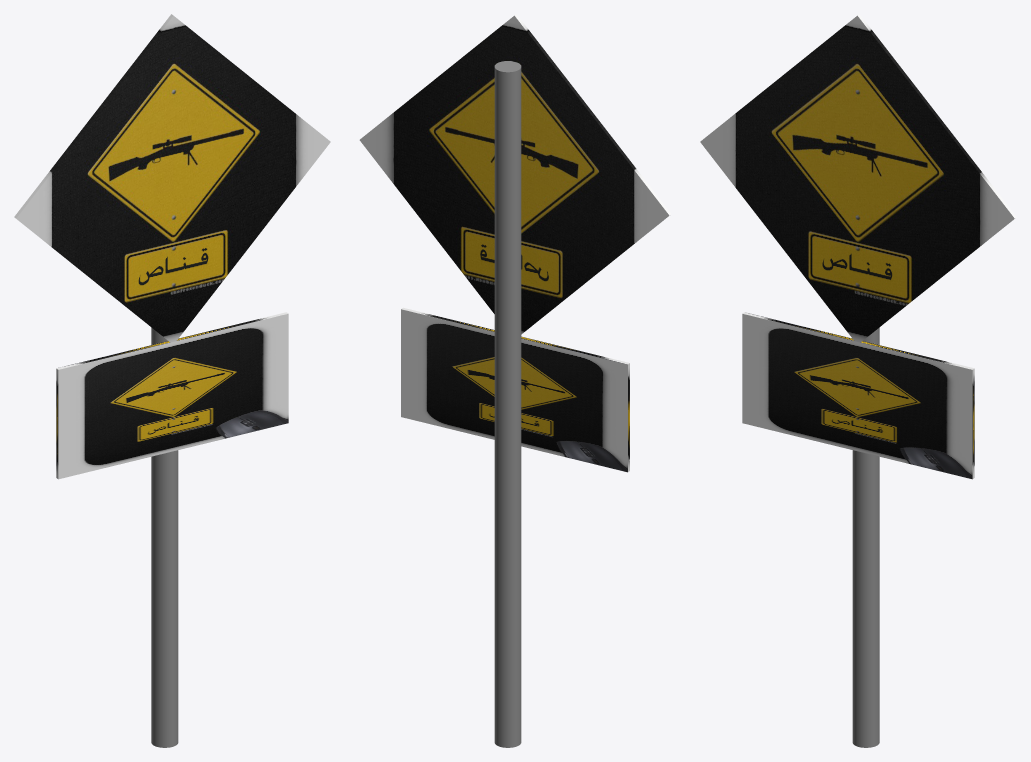
Rendered from Signal2.FBX.
The picture shows the model from 3 angles, left to right: view 1: azimuth 30°, elevation 25°; view 2: azimuth 150°, elevation 25°; view 3: azimuth 330°, elevation 25°; orthographic projection.
Visible parts, largest first — view 1: Box006, Box007, Cylinder005; view 2: Box006, Box007, Cylinder005; view 3: Box006, Box007, Cylinder005.
Part boxes in pixels (<box>): Box006: <box>14,14,330,342</box>; Box007: <box>56,312,288,479</box>; Cylinder005: <box>151,327,178,747</box>; Box006: <box>359,14,670,334</box>; Box007: <box>401,307,629,472</box>; Cylinder005: <box>494,61,521,747</box>; Box006: <box>700,14,1016,342</box>; Box007: <box>742,312,974,479</box>; Cylinder005: <box>852,327,879,747</box>.
Bounding box in the file's own units: 3.88 × 8.63 × 0.3298.
3 materials, 2 textured.
